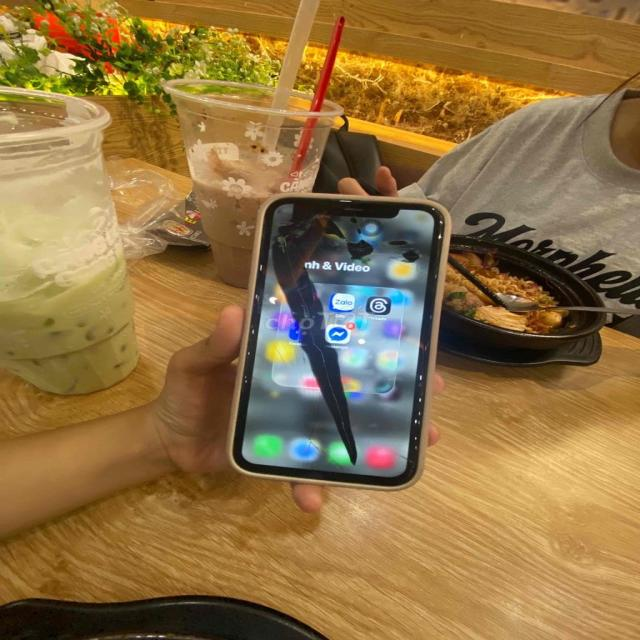physical_damage: (226, 198, 417, 476)
screen_defect: (243, 201, 428, 479)
